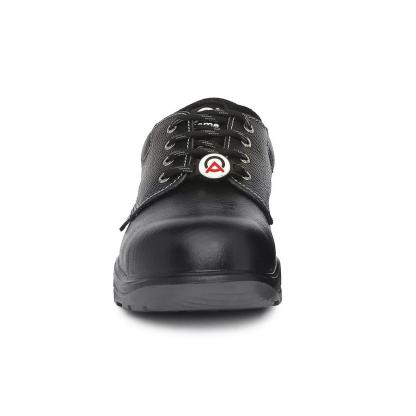bota: (109, 94, 287, 320)
